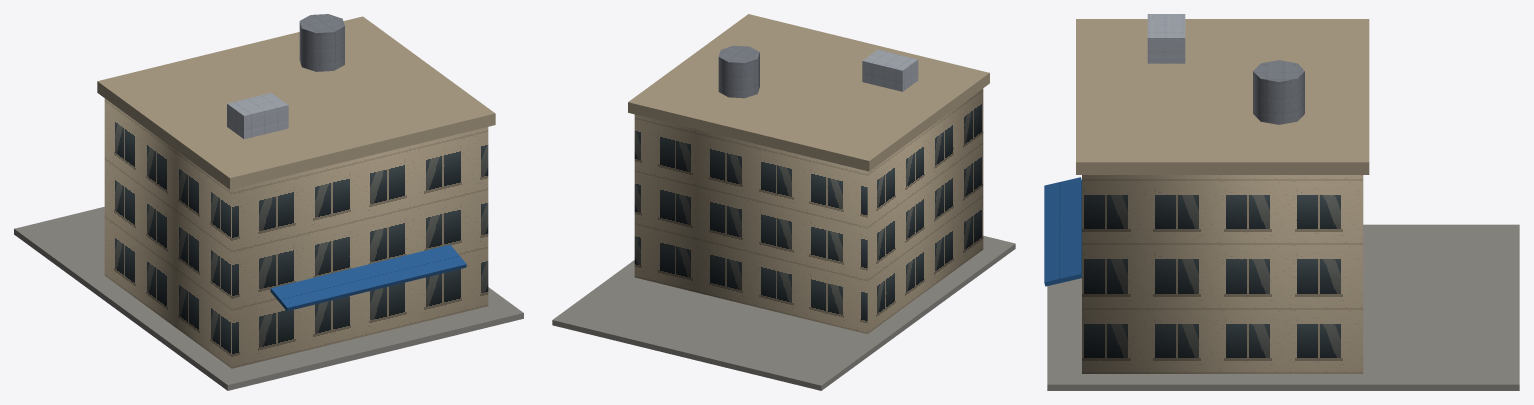
The model's file is predio_bairro.glb.
3 renders of one model, left to right at view 1: azimuth 30°, elevation 25°; view 2: azimuth 150°, elevation 25°; view 3: azimuth 270°, elevation 25°, orthographic. The views are drawn at different scales.
Visible parts, largest first — view 1: predio_bairro, predio_bairro_liso; view 2: predio_bairro, predio_bairro_liso; view 3: predio_bairro_liso, predio_bairro.
Boxes of the visible parts, x1,y1,x2,y2 form: predio_bairro: (104,14,488,368); predio_bairro_liso: (14,16,523,390); predio_bairro: (634,45,983,334); predio_bairro_liso: (552,14,1015,390); predio_bairro_liso: (1047,19,1519,390); predio_bairro: (1044,14,1363,373).
Size of the model in its own units: 16 by 12.5 by 20.12.
Materials: 4 (3 with a texture image).
